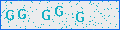G: (76, 12, 84, 22), (55, 6, 63, 16), (42, 10, 50, 20), (18, 9, 26, 19), (6, 10, 14, 20)
